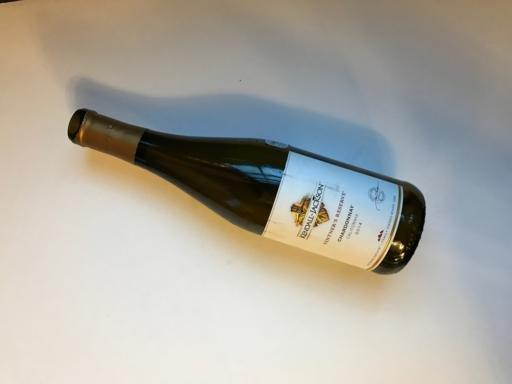botolkaca: (68, 109, 426, 274)
